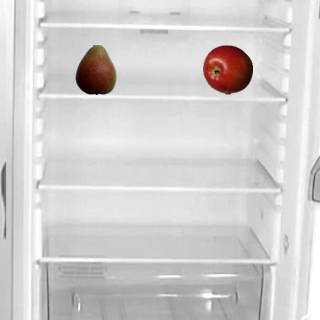Apple Braeburn: (202, 44, 252, 94)
Pear Forelle: (70, 44, 120, 94)
